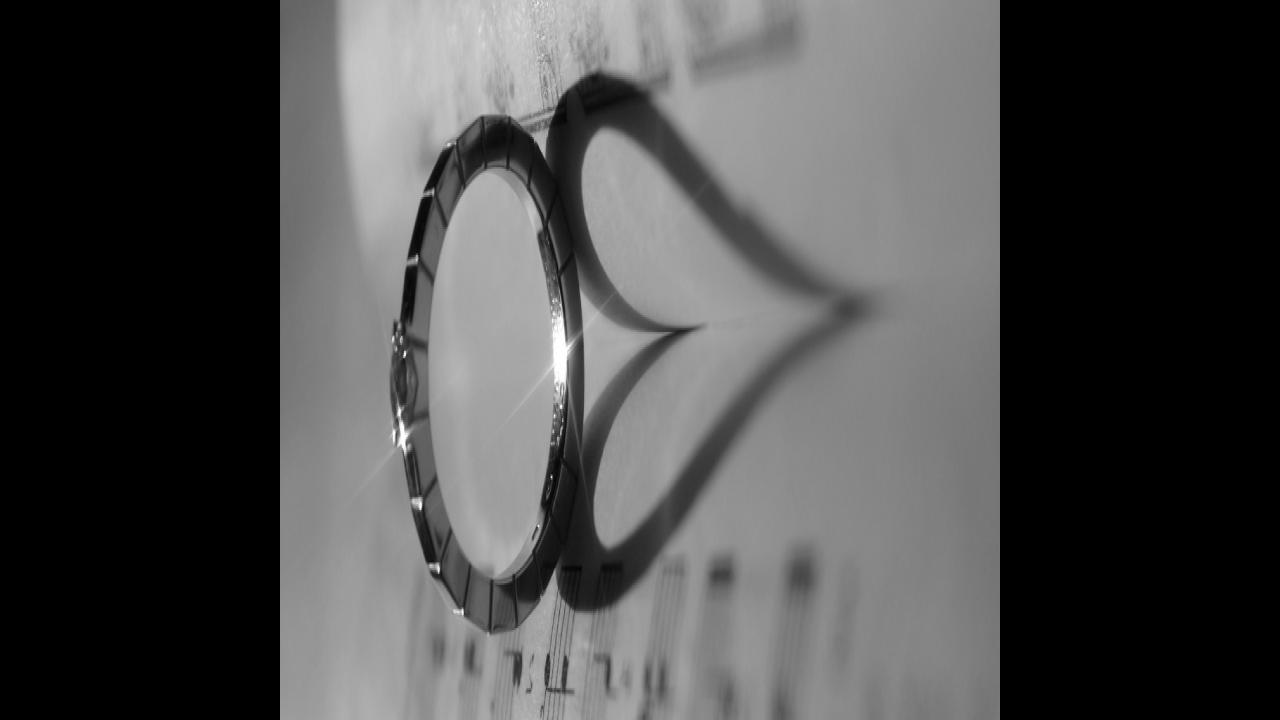ring: (388, 111, 586, 647)
